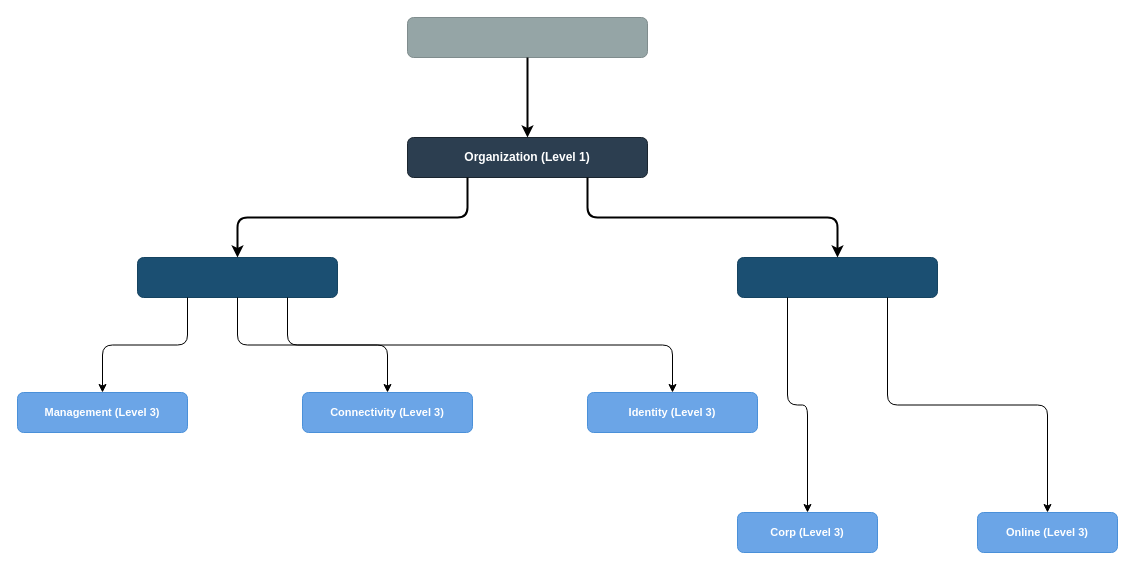
Image size: 1135x570. Some labels were removed from this diagram. Here are the shapes that lost their labels. From the top down, the centre of each, then its label:
(x=527, y=37): Tenant Root Group
(x=237, y=277): Platform (Level 2)
(x=837, y=277): Landing Zones (Level 2)
